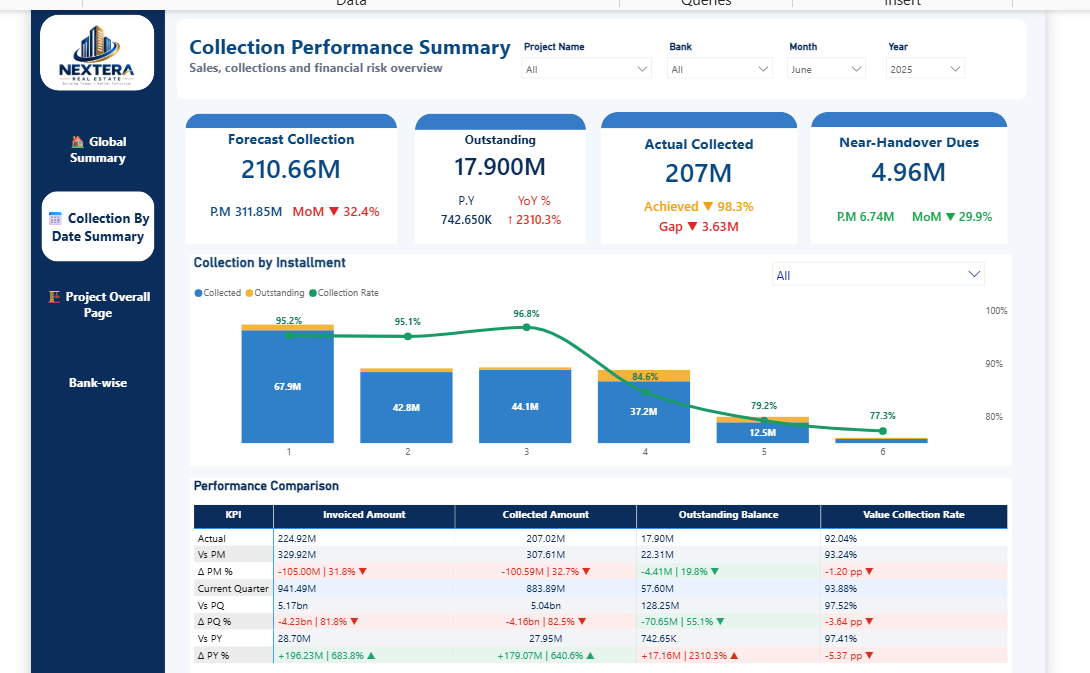

The dashboard page shown, as its layout file describes it:
{"tool":"powerbi","page":{"name":"🏠 Global Summary","canvas":[1330,890],"ordinal":0},"visuals":[{"type":"shape","box":[982.1,613.8,335.4,269.6],"z":0},{"type":"shape","box":[190.7,613.8,771.6,269.6],"z":1000},{"type":"shape","box":[632.4,299.2,685,305.8],"z":2000},{"type":"shape","box":[0,0,175.4,890],"z":3000},{"type":"pageNavigator","box":[13.6,136.2,148.8,400.7],"z":4000},{"type":"shape","box":[190.5,11.5,1114.8,105.7],"z":5000},{"type":"shape","box":[12.6,6.8,150,100],"z":6000},{"type":"image","box":[12.6,6.8,148.8,107],"z":7000},{"type":"textbox","box":[202.3,23.3,575.8,73.9],"z":8000},{"type":"slicer","fields":{"Values":["Dim Project.Project Name"]},"box":[632.2,36,190.6,55.4],"z":9000},{"type":"slicer","fields":{"Values":["Dim Bank.Bank"]},"box":[822.9,36,158.5,60.3],"z":10000},{"type":"slicer","fields":{"Values":["DimDate.Month Name"]},"box":[981.4,36,123.5,61.3],"z":11000},{"type":"slicer","fields":{"Values":["DimDate.Year"]},"box":[1111.7,36,123.5,61.3],"z":12000},{"type":"cardVisual","fields":{"Data":["Dax.# Sold"]},"box":[190.7,135.9,173.2,152.4],"z":13000},{"type":"shape","box":[190.7,121.7,173.2,18.6],"z":14000},{"type":"shape","box":[385.8,121.7,214.8,18.6],"z":15000},{"type":"shape","box":[619.3,120.6,222.5,18.6],"z":16000},{"type":"cardVisual","fields":{"Data":["Dax.Amount Collected"]},"box":[619.3,139.2,222.5,148],"z":17000},{"type":"shape","box":[865.9,119.5,205,20.8],"z":18000},{"type":"cardVisual","fields":{"Data":["Dax.Outstanding Balance"]},"box":[865.9,139.2,205,149.1],"z":19000},{"type":"shape","box":[1085.3,121.9,220.2,19.7],"z":20000},{"type":"scatterChart","title":"Collection Risk Map","fields":{"X":["Dax.Collection Rate"],"Y":["Dax.Outstanding Balance"],"Size":["Dax.Unit Price (Sold)"],"Category":["Dim Project.Project Name"]},"box":[683,321.1,623,253.2],"z":20000,"group":"g1"},{"type":"cardVisual","fields":{"Data":["Dax.Collection Rate"]},"box":[1085.3,141.6,221.4,152.4],"z":21000},{"type":"textbox","box":[658.7,328.4,232.7,36.7],"z":21000,"group":"g1"},{"type":"cardVisual","fields":{"Data":["Dax.Invoiced Amount"]},"box":[385.8,138.1,214.8,150.2],"z":22000},{"type":"textbox","box":[714.9,370.8,122.8,32.9],"z":22000,"group":"g1"},{"type":"group","id":"g1","title":"Group 1","box":[658.7,316,647.3,258.3],"z":23000},{"type":"textbox","box":[1094.1,316,176.5,29.6],"z":23000,"group":"g1"},{"type":"shape","box":[190.7,299.2,428.6,305.8],"z":24000},{"type":"textbox","box":[1040.3,537.2,116.8,33],"z":24001,"group":"g1"},{"type":"clusteredBarChart","title":"Sales Contribution by Bank & Cash","fields":{"Category":["Dim Bank.Bank"],"Y":["Dax.Bank Sales Contribution %"]},"box":[220.3,311.3,370.5,272.9],"z":25000},{"type":"pivotTable","title":"Performance Comparison","fields":{"Rows":["KPI Comparison Rows.KPI"],"Values":["Dax.Sales Value KPI Matrix","Dax.Units Sold KPI Matrix","Dax.Sold % KPI Matrix","Dax.Collected Amount KPI Matrix"]},"box":[230.2,625.8,692.7,249.9],"z":26000},{"type":"textbox","box":[1021.5,614.9,295.9,58.1],"z":27000},{"type":"cardVisual","fields":{"Data":["Dax.Outlook Sold %"]},"box":[999.6,646.7,300.3,179.8],"z":28000},{"type":"cardVisual","fields":{"Data":["Dax.Project Pace Status"]},"box":[1001.8,806.7,311.3,53.7],"z":29000},{"type":"shape","box":[1005.1,736.6,300.3,14.2],"z":30000}]}

Visuals, with their boxes on the page's 1330x890 design canvas (x1, y1, x2, y2). These are canvas units, not pixel positions in the 1090x673 screenshot, which may show the page scaled, cropped or inside an application window:
shape: [982, 614, 1318, 883]
shape: [191, 614, 962, 883]
shape: [632, 299, 1317, 605]
shape: [0, 0, 175, 890]
pageNavigator: [14, 136, 162, 537]
shape: [190, 12, 1305, 117]
shape: [13, 7, 163, 107]
image: [13, 7, 161, 114]
textbox: [202, 23, 778, 97]
slicer - Dim Project.Project Name: [632, 36, 823, 91]
slicer - Dim Bank.Bank: [823, 36, 981, 96]
slicer - DimDate.Month Name: [981, 36, 1105, 97]
slicer - DimDate.Year: [1112, 36, 1235, 97]
cardVisual - Dax.# Sold: [191, 136, 364, 288]
shape: [191, 122, 364, 140]
shape: [386, 122, 601, 140]
shape: [619, 121, 842, 139]
cardVisual - Dax.Amount Collected: [619, 139, 842, 287]
shape: [866, 120, 1071, 140]
cardVisual - Dax.Outstanding Balance: [866, 139, 1071, 288]
shape: [1085, 122, 1306, 142]
"Collection Risk Map" scatterChart: [683, 321, 1306, 574]
cardVisual - Dax.Collection Rate: [1085, 142, 1307, 294]
textbox: [659, 328, 891, 365]
cardVisual - Dax.Invoiced Amount: [386, 138, 601, 288]
textbox: [715, 371, 838, 404]
"Group 1" group: [659, 316, 1306, 574]
textbox: [1094, 316, 1271, 346]
shape: [191, 299, 619, 605]
textbox: [1040, 537, 1157, 570]
"Sales Contribution by Bank & Cash" clusteredBarChart: [220, 311, 591, 584]
"Performance Comparison" pivotTable: [230, 626, 923, 876]
textbox: [1022, 615, 1317, 673]
cardVisual - Dax.Outlook Sold %: [1000, 647, 1300, 826]
cardVisual - Dax.Project Pace Status: [1002, 807, 1313, 860]
shape: [1005, 737, 1305, 751]
